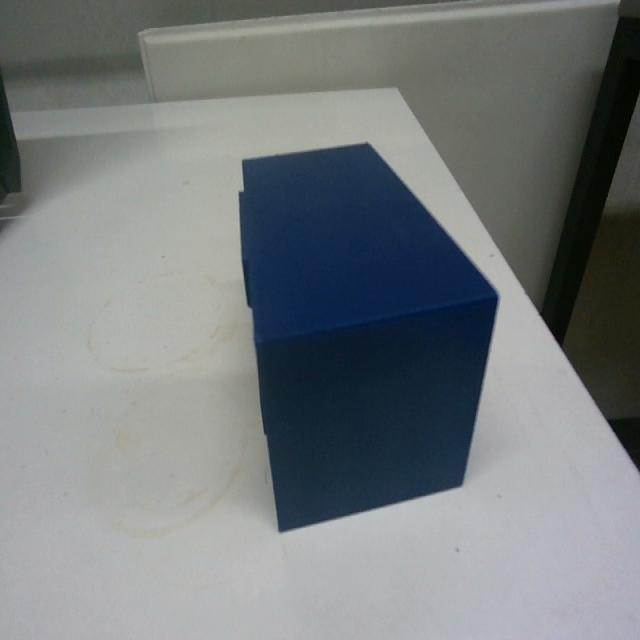Blue Cuboid: (234, 137, 500, 532)
